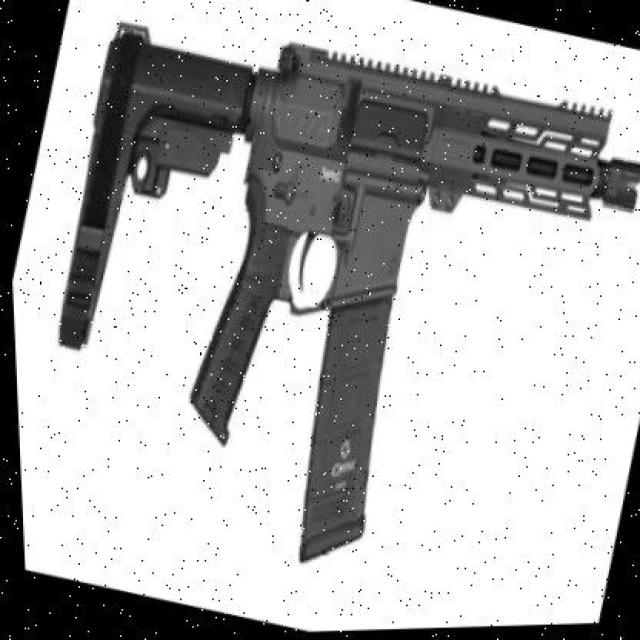weapon: (60, 18, 640, 564)
